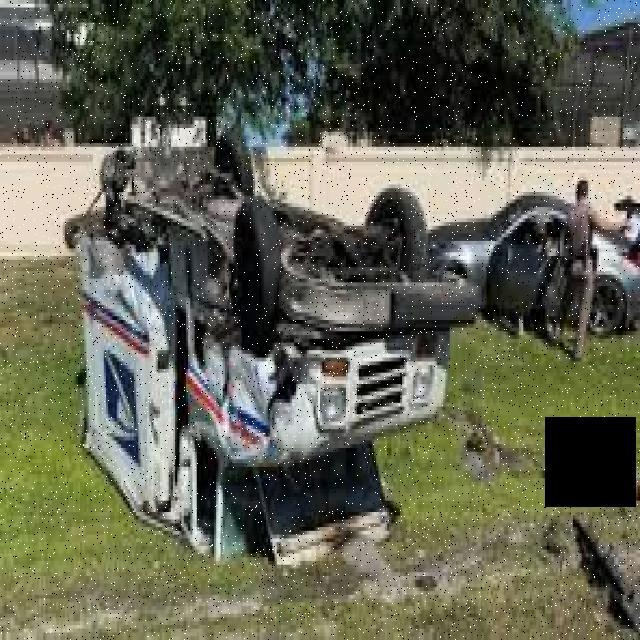severe: (66, 109, 481, 572)
